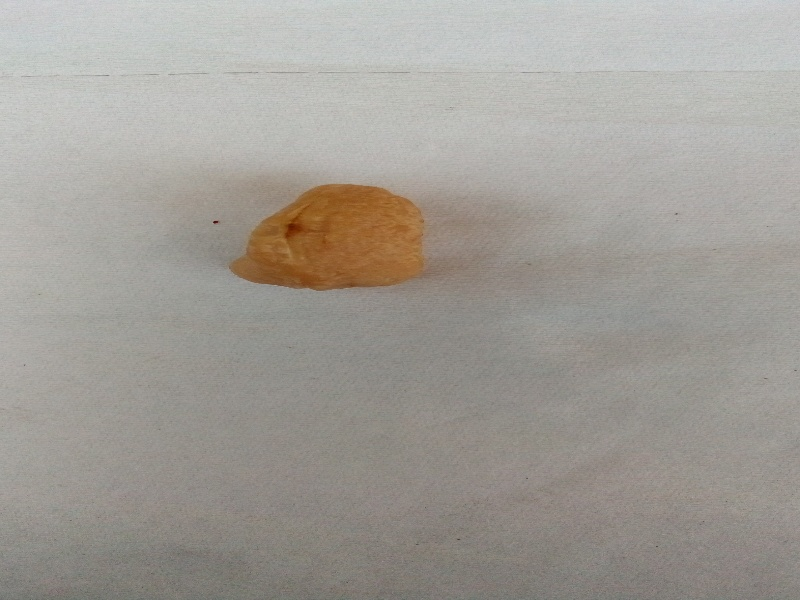cashew: (225, 164, 450, 318)
